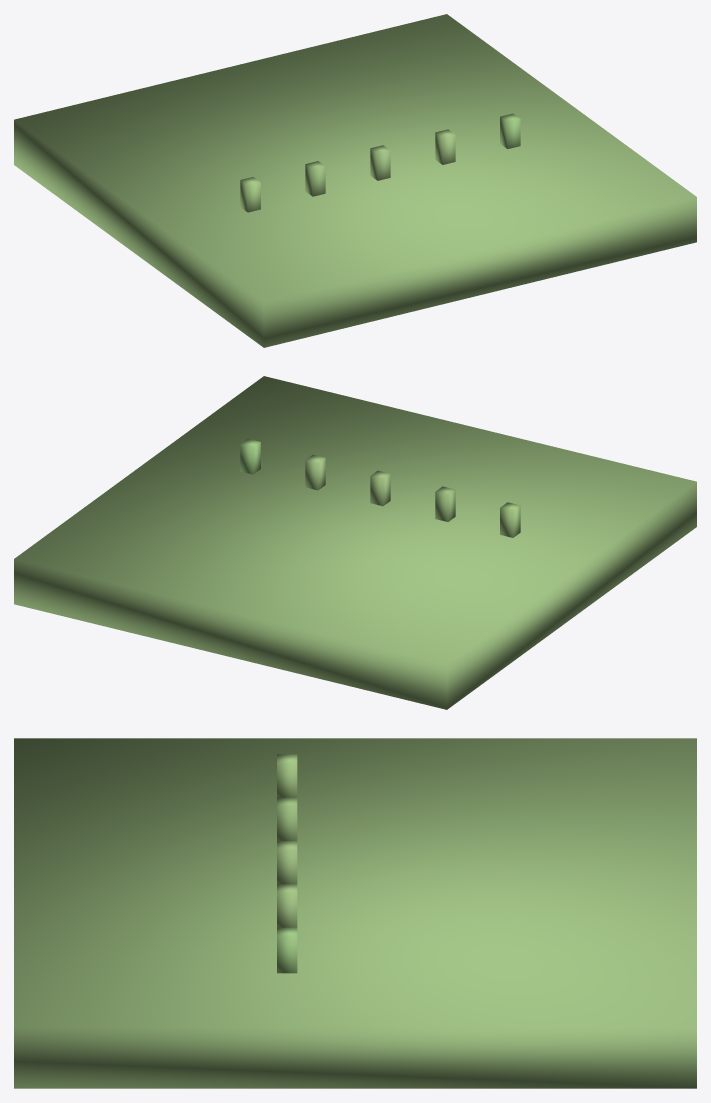
The model's file is terrain_grass_spring.glb.
3 views of the same model, one above another, from view 1: azimuth 30°, elevation 25°; view 2: azimuth 150°, elevation 25°; view 3: azimuth 270°, elevation 25° (orthographic). The views are drawn at different scales.
Visible parts, largest first — view 1: tile, tuft0, tuft2, tuft3, tuft4, tuft1; view 2: tile, tuft2, tuft3, tuft4, tuft0, tuft1; view 3: tile, tuft4, tuft0, tuft3, tuft1, tuft2.
Part boxes in pixels (x1,y1,x2,y2): tile: (14, 14, 696, 347); tuft0: (240, 177, 260, 212); tuft2: (370, 145, 390, 180); tuft3: (435, 129, 455, 164); tuft4: (500, 113, 520, 148); tuft1: (305, 161, 325, 196); tile: (14, 376, 696, 709); tuft2: (370, 470, 390, 506); tuft3: (305, 455, 325, 490); tuft4: (240, 439, 260, 474); tuft0: (500, 502, 520, 537); tuft1: (435, 486, 455, 521); tile: (14, 738, 696, 1088); tuft4: (277, 927, 297, 973); tuft0: (277, 754, 297, 797); tuft3: (277, 884, 297, 927); tuft1: (277, 797, 297, 840); tuft2: (277, 841, 297, 884).
Bounding box in the file's own units: 1 × 0.16 × 1.
